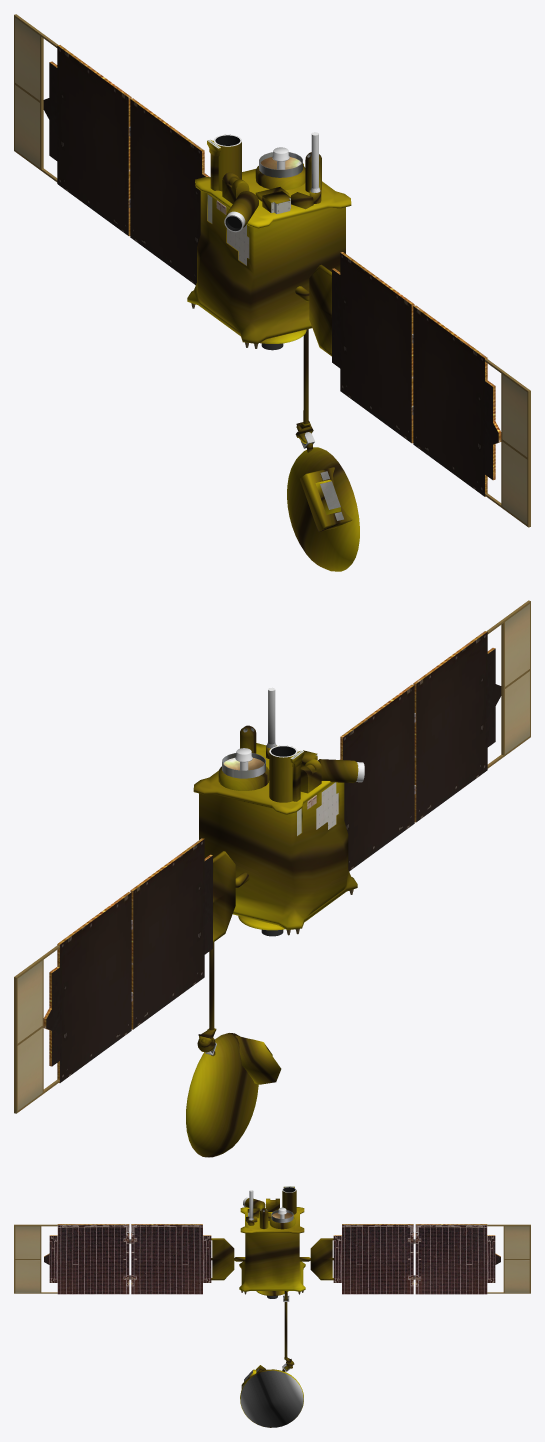
Rendered from mgs-opt.glb.
3 views of the same model, one above another, from view 1: azimuth 30°, elevation 25°; view 2: azimuth 150°, elevation 25°; view 3: azimuth 270°, elevation 25° (orthographic). The views are drawn at different scales.
Visible parts, largest first — view 1: tex, foil_gold, AO; view 2: tex, foil_gold, AO; view 3: shiny_panel, foil_gold, tex, foil_silver.
Part boxes in pixels (x1,y1,x2,y2): tex: (14,14,530,527); foil_gold: (187,140,359,571); AO: (213,132,320,448); tex: (14,600,530,1113); foil_gold: (186,725,358,1157); AO: (205,688,364,1055); shiny_panel: (44,1224,500,1294); foil_gold: (211,1187,333,1427); tex: (14,1186,530,1387); foil_silver: (240,1370,303,1427).
Size of the model in its own units: 1.75 by 5.15 by 10.52.
Materials: 7 (6 with a texture image).
